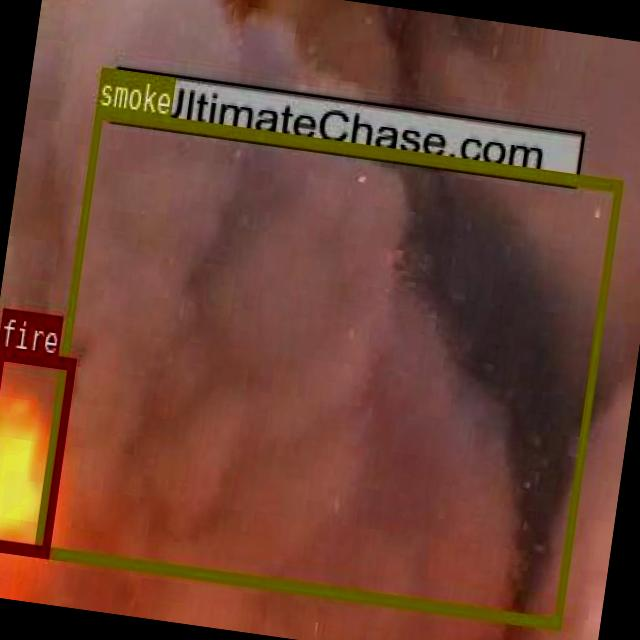fire: (0, 345, 74, 555)
smoke: (32, 106, 622, 628)
